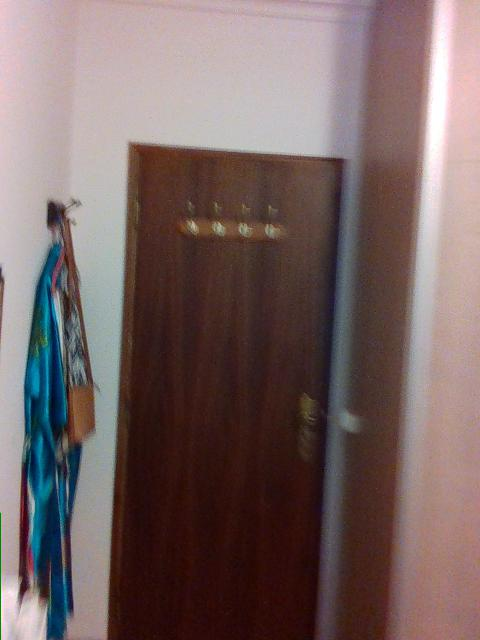door: (102, 141, 347, 639)
